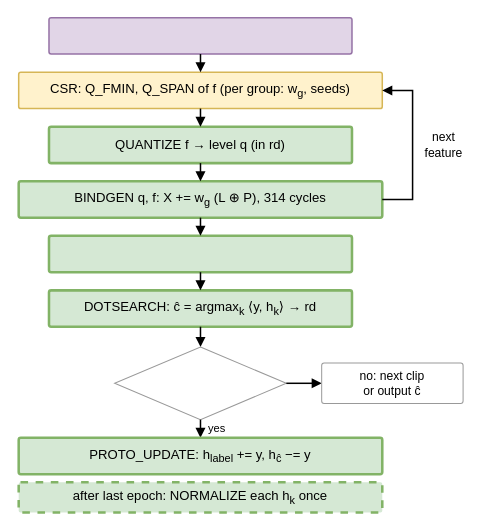
Some shapes in this 489 by 531 pixel diagram are drawn without their labels. The centre of each missing label's shape, as x and y in pixels:
Front end → 1010 Q16.16 features: pixel 200 35
SIGN: y = sign(X) → bit SPM: pixel 200 253
train and ĉ ≠ label?: pixel 200 383
